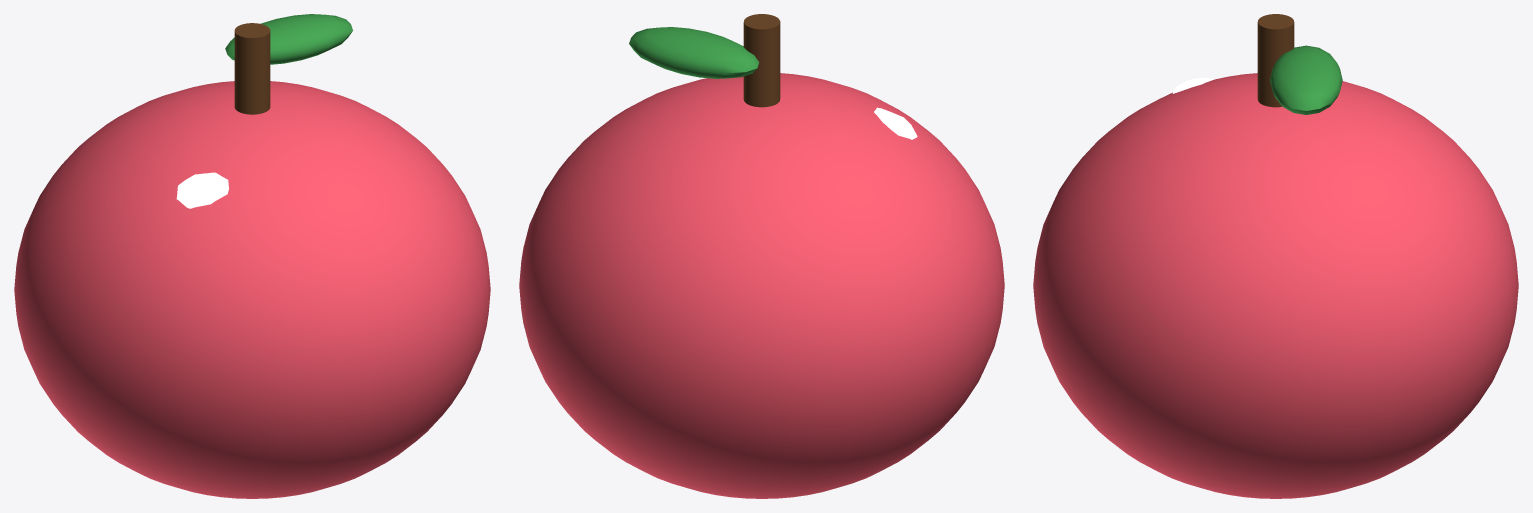
The model's file is jablko_cervene.glb.
3 renders of one model, left to right at view 1: azimuth 30°, elevation 25°; view 2: azimuth 150°, elevation 25°; view 3: azimuth 270°, elevation 25°, orthographic.
Visible parts, largest first — view 1: jablko_cervene_m, jablko_cervene_list, jablko_cervene_stopka, jablko_cervene_lesk; view 2: jablko_cervene_m, jablko_cervene_list, jablko_cervene_stopka, jablko_cervene_lesk; view 3: jablko_cervene_m, jablko_cervene_list, jablko_cervene_stopka.
Boxes of the visible parts, x1,y1,x2,y2 form: jablko_cervene_m: (14, 81, 490, 498); jablko_cervene_list: (225, 14, 352, 64); jablko_cervene_stopka: (234, 23, 270, 114); jablko_cervene_lesk: (176, 172, 228, 208); jablko_cervene_m: (519, 73, 1004, 498); jablko_cervene_list: (629, 27, 759, 78); jablko_cervene_stopka: (743, 14, 780, 107); jablko_cervene_lesk: (874, 107, 917, 139); jablko_cervene_m: (1033, 73, 1518, 498); jablko_cervene_list: (1270, 45, 1342, 114); jablko_cervene_stopka: (1257, 14, 1294, 107).
Size of the model in its own units: 0.8 by 0.82 by 0.8.
